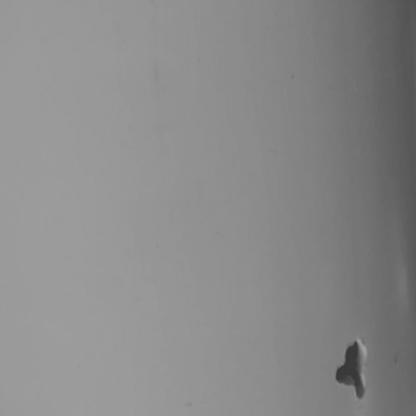kongdong: (330, 332, 381, 410)
